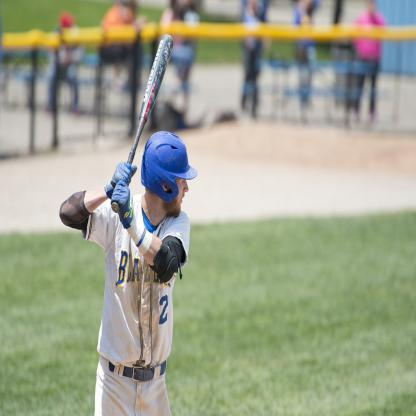Helmet: (140, 130, 197, 201)
